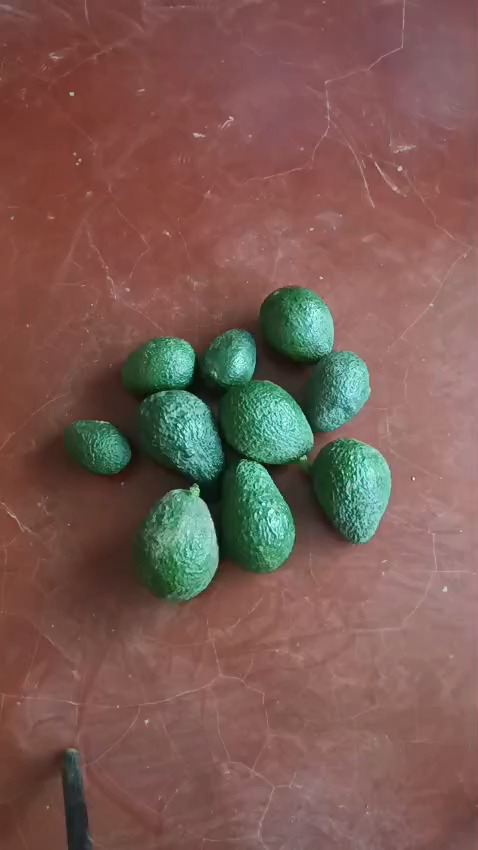Primera: (131, 489, 220, 602), (135, 389, 227, 485), (310, 438, 393, 542), (218, 459, 295, 571), (220, 381, 313, 465)
Segunda: (301, 350, 372, 433), (258, 285, 333, 362)
Tercera: (120, 337, 196, 397), (63, 419, 132, 475), (199, 328, 257, 391)
